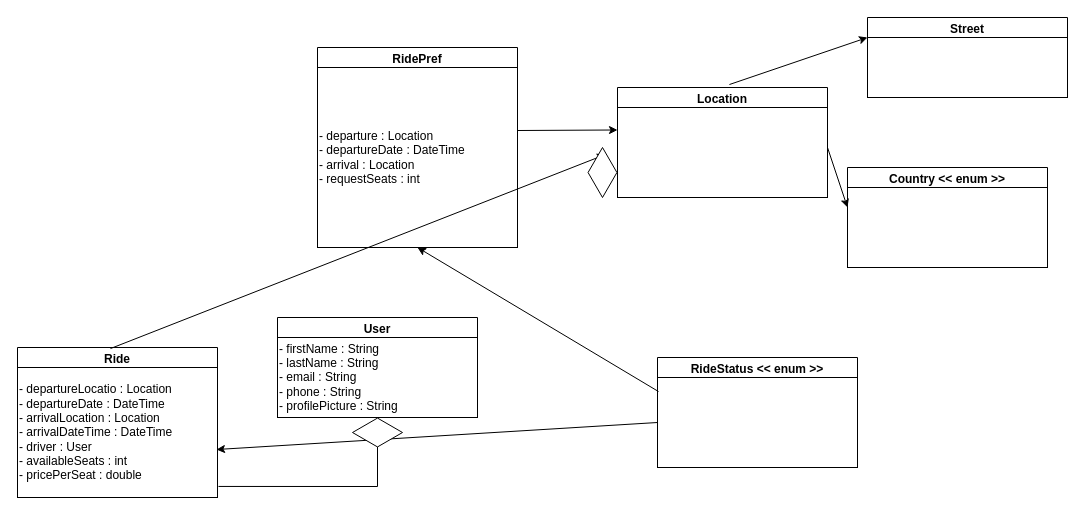
This 1085x515 diagram has some shape labels left out. Here are the shapes that lost their labels. From the top down, the centre of each, then its label:
At (x=967, y=67): "- name = String - City = Location".
At (x=722, y=152): "- name : String - country : Country".
At (x=947, y=227): "- france = 'France' - uk = ' United Kingdom' - spain = ' Spain '".
At (x=757, y=422): "+ Created + published + ongoing + finish".
